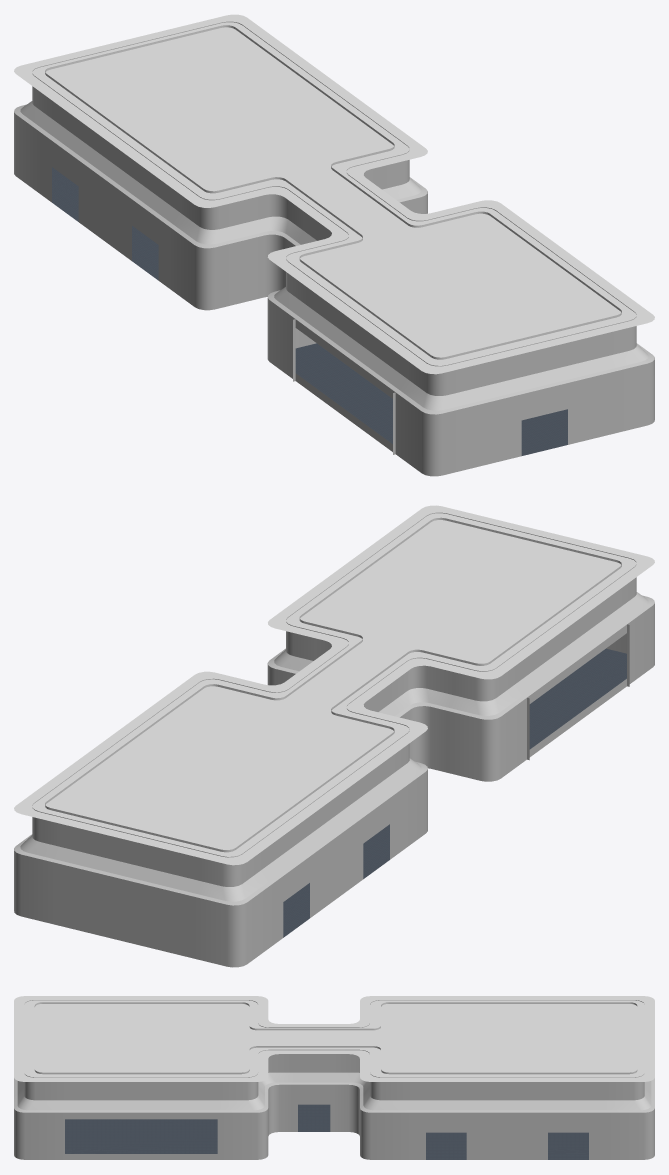
Rendered from SM_Ship_Main.fbx.
3 renders of one model, top to bottom at view 1: azimuth 30°, elevation 25°; view 2: azimuth 150°, elevation 25°; view 3: azimuth 270°, elevation 25°, orthographic. The views are drawn at different scales.
Parts seen in each view (by area): view 1: SM_Ship_Main; view 2: SM_Ship_Main; view 3: SM_Ship_Main.
Part boxes in pixels (left/top/right/bottom): SM_Ship_Main: left=14, top=14, right=654, bottom=476; SM_Ship_Main: left=14, top=505, right=654, bottom=967; SM_Ship_Main: left=14, top=996, right=654, bottom=1159.
Bounding box in the file's own units: 4093 × 1726 × 12600.
